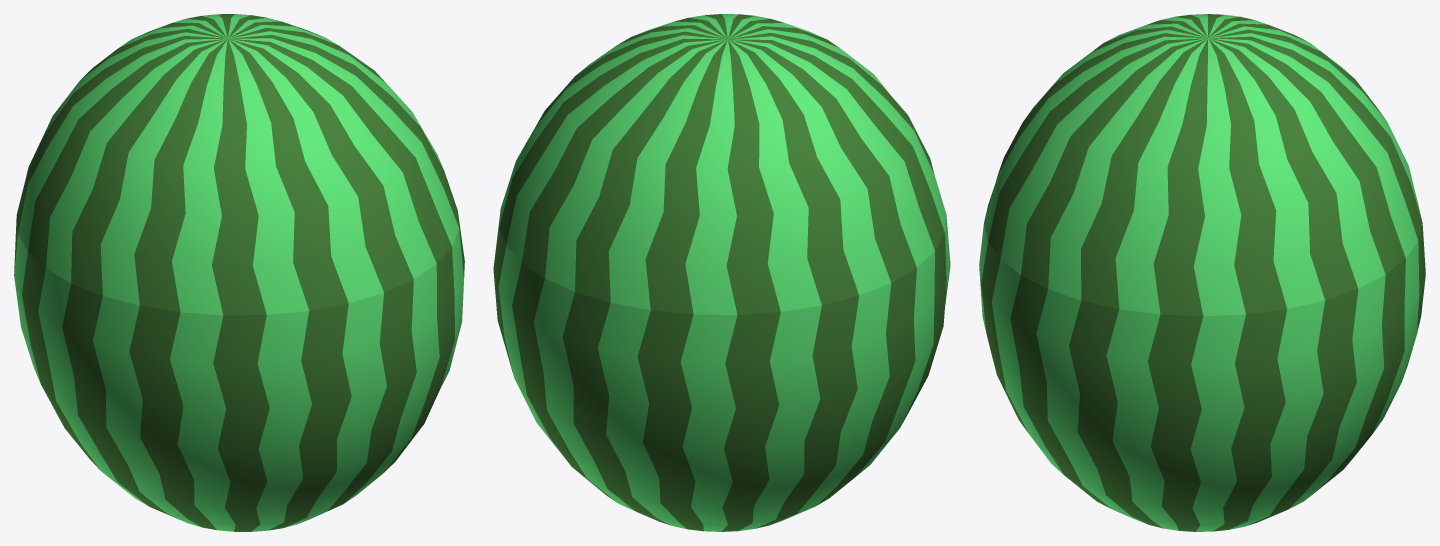
Rendered from melon.fbx.
3 views of the same model, side by side, from view 1: azimuth 30°, elevation 25°; view 2: azimuth 150°, elevation 25°; view 3: azimuth 270°, elevation 25° (orthographic). The views are drawn at different scales.
Parts seen in each view (by area): view 1: watermelon.001, watermelon; view 2: watermelon.001, watermelon; view 3: watermelon.001, watermelon.
Boxes of the visible parts, box(x1,y1,x2,y2) form: watermelon.001: box(16, 14, 459, 315); watermelon: box(14, 213, 464, 531); watermelon.001: box(499, 14, 946, 314); watermelon: box(493, 212, 950, 531); watermelon.001: box(984, 14, 1422, 316); watermelon: box(979, 224, 1425, 531).
Size of the model in its own units: 365 by 426 by 365.
